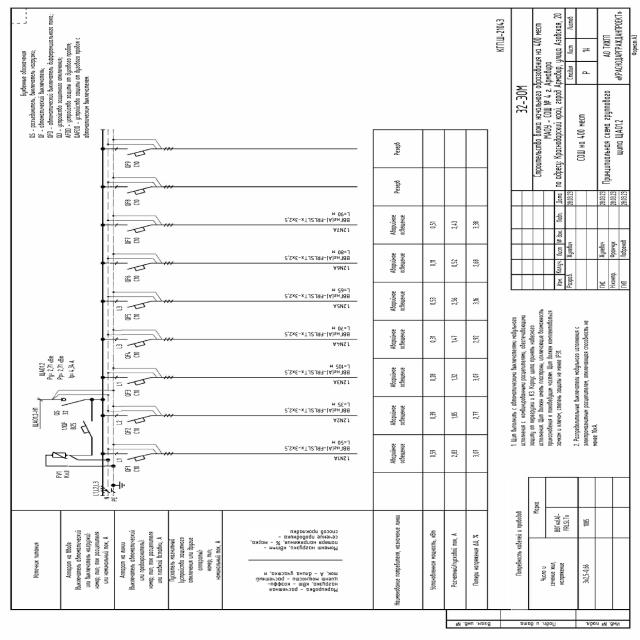-: (38, 361, 46, 378), (132, 388, 142, 399), (63, 469, 72, 480), (132, 351, 141, 361), (132, 312, 141, 322), (132, 426, 141, 436), (132, 160, 143, 168), (131, 236, 142, 244), (61, 408, 70, 417), (132, 198, 142, 206), (133, 464, 140, 475), (132, 274, 141, 282), (70, 422, 78, 431)
FV: (50, 450, 70, 460)
QF: (114, 184, 150, 196), (114, 375, 151, 386), (114, 261, 151, 272), (114, 299, 151, 310), (114, 337, 151, 348), (115, 413, 152, 424), (115, 146, 151, 157), (115, 222, 151, 233), (114, 452, 150, 462), (80, 420, 94, 438)
QS: (60, 397, 84, 407)
